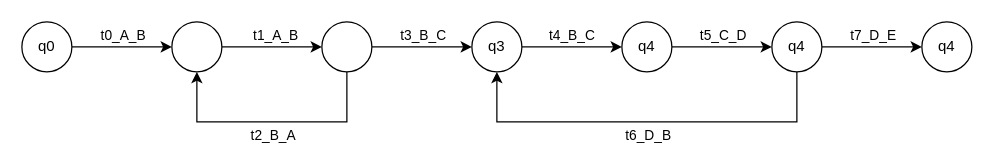
This 994x165 diagram has some shape labels left out. The shapes that lost their labels are listed below. From the top down, each one's box as (x1, y1, x2, y2) in pixels, then its label:
(171, 21, 222, 72): q1
(321, 21, 372, 72): q2
